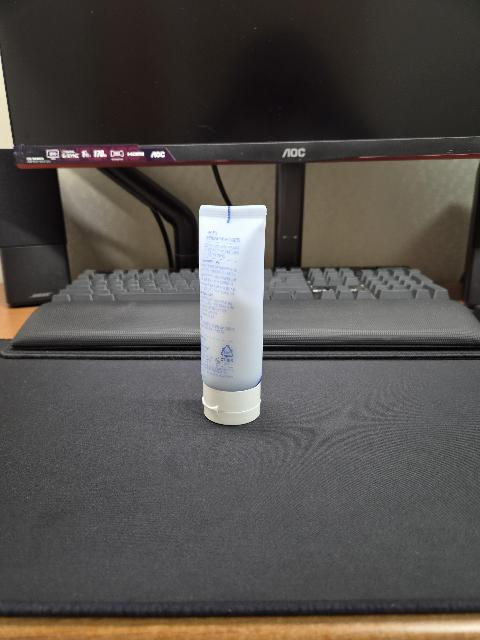handcream: (199, 205, 267, 425)
